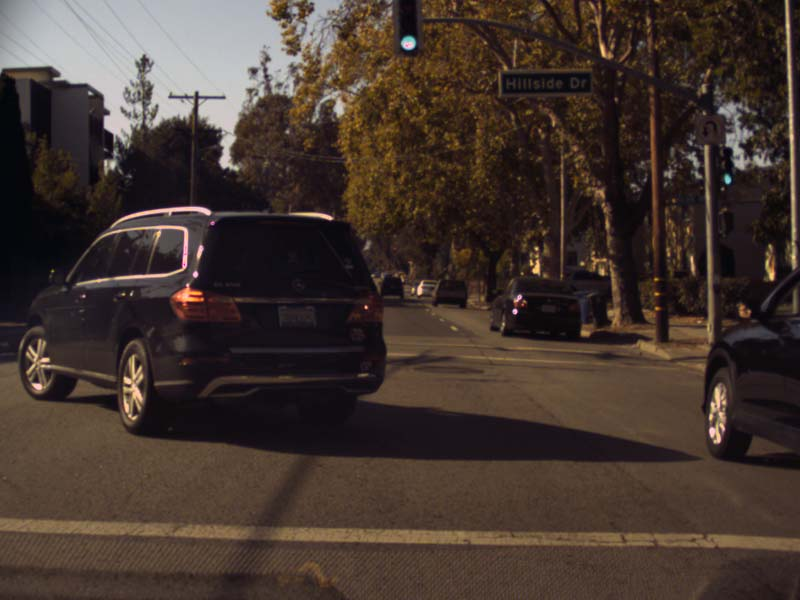Green: (718, 147, 733, 186)
